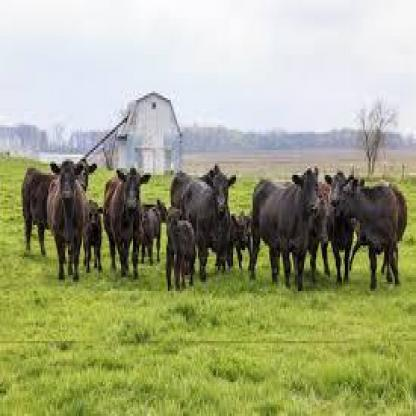cow: (251, 165, 322, 292), (334, 169, 408, 290), (20, 154, 98, 254), (182, 173, 237, 282), (104, 164, 152, 280), (48, 160, 90, 281), (324, 170, 356, 286), (308, 178, 333, 288), (168, 163, 222, 210), (167, 217, 195, 292), (142, 196, 168, 264), (228, 209, 252, 273), (86, 196, 105, 272)
